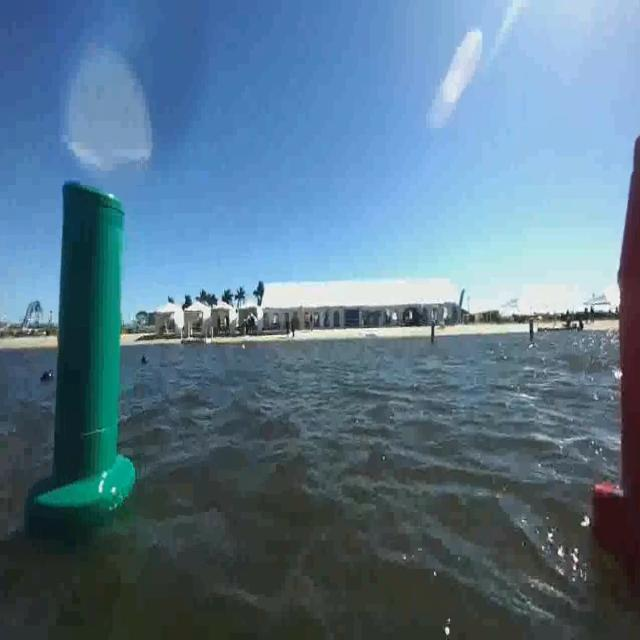green-column-buoy: (35, 188, 136, 531)
